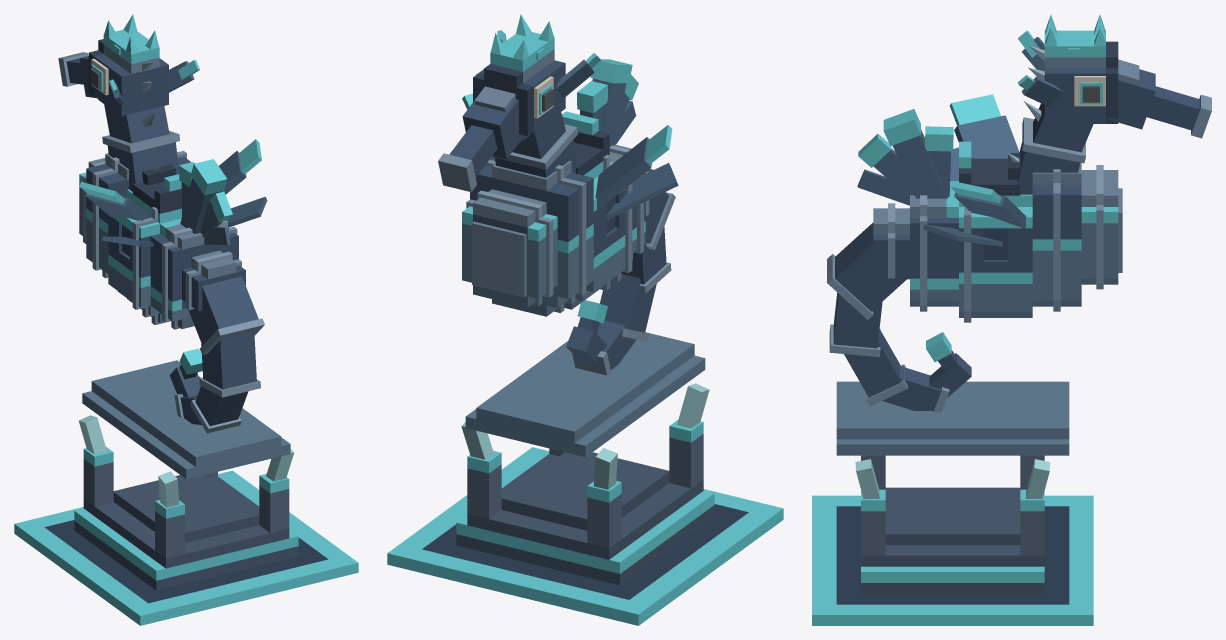
Rendered from SeahorseTrainer10.glb.
3 views of the same model, side by side, from view 1: azimuth 30°, elevation 25°; view 2: azimuth 150°, elevation 25°; view 3: azimuth 270°, elevation 25° (orthographic). The views are drawn at different scales.
Visible parts, largest first — view 1: Stand, Body, Stand_Glow, Plate, Head, T1, T2, Wings, Head_Glow, Fin, T3, Fin_Glow (+4 smaller); view 2: Stand, Body, Stand_Glow, Plate, Head, Wings, Head_Glow, T3, Body_Glow, Fin_Glow, Fin, T4 (+4 smaller); view 3: Body, Stand, Stand_Glow, Plate, Head, Fin, Wings, T1, Body_Glow, Head_Glow, T2, Fin_Glow (+4 smaller).
Part boxes in pixels (x1,y1,x2,y2): Stand: (44, 459, 328, 603); Body: (79, 88, 245, 329); Stand_Glow: (14, 415, 358, 625); Plate: (82, 360, 290, 479); Head: (58, 39, 194, 116); T1: (188, 276, 264, 355); T2: (199, 332, 260, 397); Wings: (85, 151, 267, 246); Head_Glow: (91, 14, 199, 94); Fin: (180, 178, 230, 244); T3: (190, 386, 248, 433); Fin_Glow: (179, 159, 232, 222); Stand: (422, 434, 748, 599); Body: (462, 112, 653, 316); Stand_Glow: (387, 383, 783, 625); Plate: (465, 332, 705, 457); Head: (438, 39, 594, 192); Wings: (595, 137, 678, 220); Head_Glow: (490, 14, 600, 114); T3: (600, 274, 656, 341); Body_Glow: (462, 111, 645, 268); Fin_Glow: (577, 59, 638, 113); Fin: (580, 78, 636, 146); T4: (572, 320, 636, 375); Body: (873, 76, 1122, 322); Stand: (836, 455, 1069, 604); Stand_Glow: (812, 459, 1093, 625); Plate: (836, 381, 1069, 455); Head: (1021, 37, 1211, 138); Fin: (857, 129, 951, 205); Wings: (923, 115, 1026, 246); T1: (827, 222, 909, 319); Body_Glow: (910, 141, 1118, 289); Head_Glow: (1017, 14, 1105, 104); T2: (829, 293, 882, 357); Fin_Glow: (858, 109, 953, 167).
Size of the model in its own units: 9.2 by 19.66 by 13.06.
